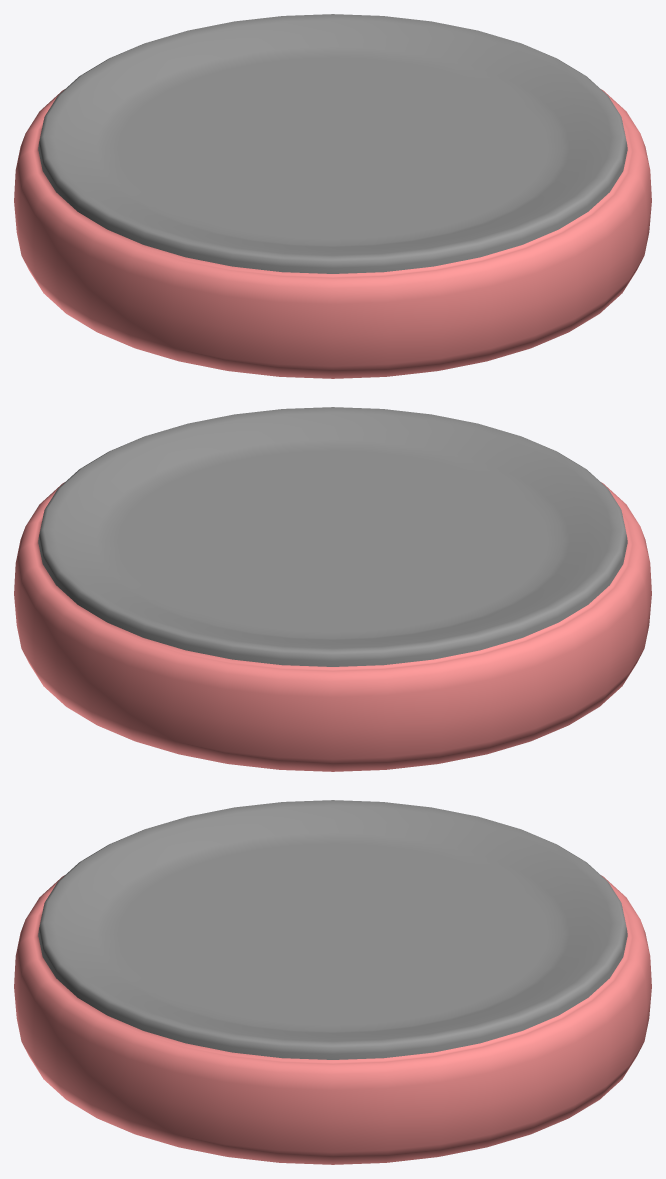
File: prop_start.FBX
3 renders of one model, top to bottom at view 1: azimuth 30°, elevation 25°; view 2: azimuth 150°, elevation 25°; view 3: azimuth 270°, elevation 25°, orthographic.
Parts seen in each view (by area): view 1: start; view 2: start; view 3: start.
Part boxes in pixels (left/top/right/bottom): start: left=14, top=14, right=651, bottom=378; start: left=14, top=407, right=651, bottom=771; start: left=14, top=800, right=651, bottom=1164.
Size of the model in its own units: 1322 by 276 by 1322.
